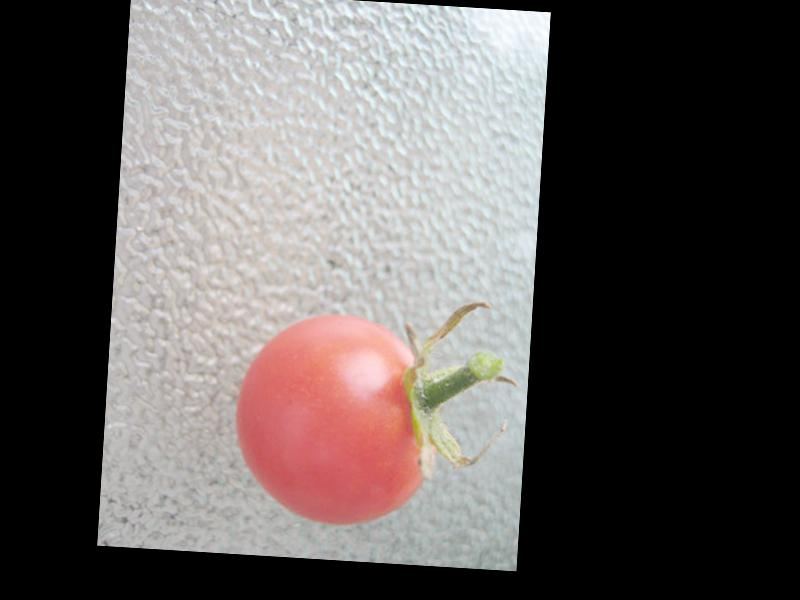Tomato: (228, 305, 434, 528)
